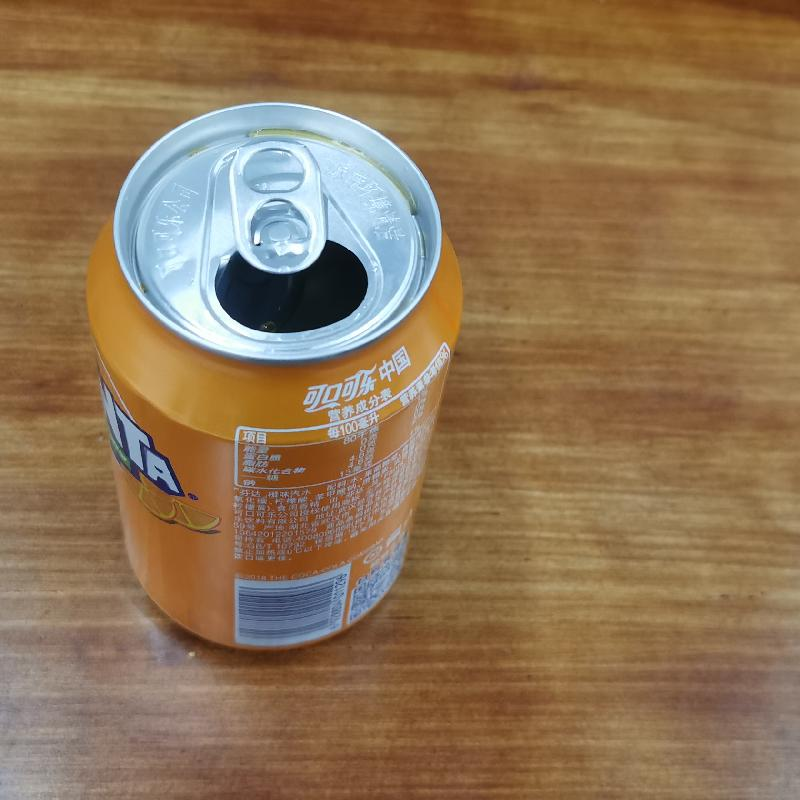cans: (77, 93, 466, 658)
